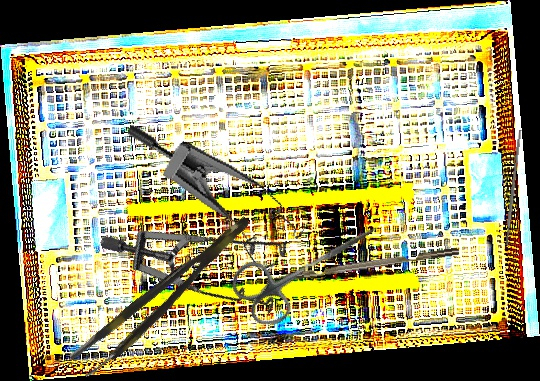Chopper: (258, 247, 461, 293)
Iris Scissors: (224, 195, 394, 335)
Scalpel Handle: (503, 129, 523, 246)
Speculum: (97, 147, 314, 363), (99, 123, 319, 280)
Tissue Forceps: (68, 213, 263, 381)
